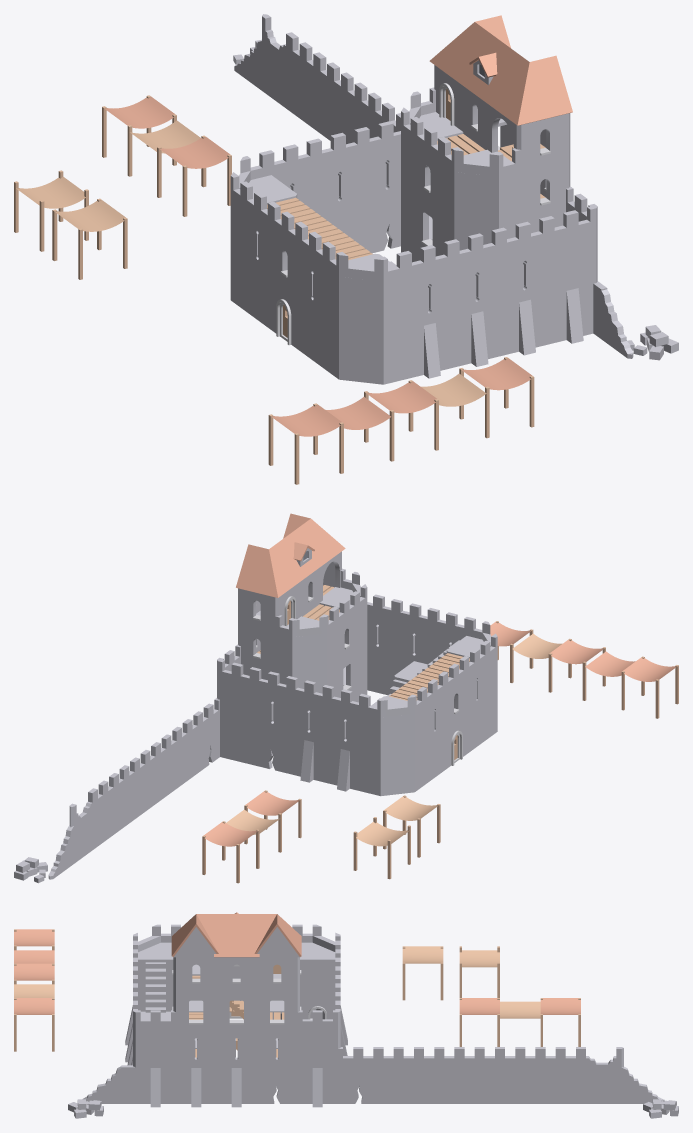
The model's file is Castle.glb.
The picture shows the model from 3 angles, top to bottom: view 1: azimuth 30°, elevation 25°; view 2: azimuth 150°, elevation 25°; view 3: azimuth 270°, elevation 25°; orthographic projection. The views are drawn at different scales.
Parts seen in each view (by area): view 1: Node; view 2: Node; view 3: Node.
Part boxes in pixels (x1,y1,x2,y2): Node: (14,14,678,484); Node: (14,513,678,883); Node: (14,912,678,1118).
Size of the model in its own units: 8.92 by 4.92 by 16.42.
